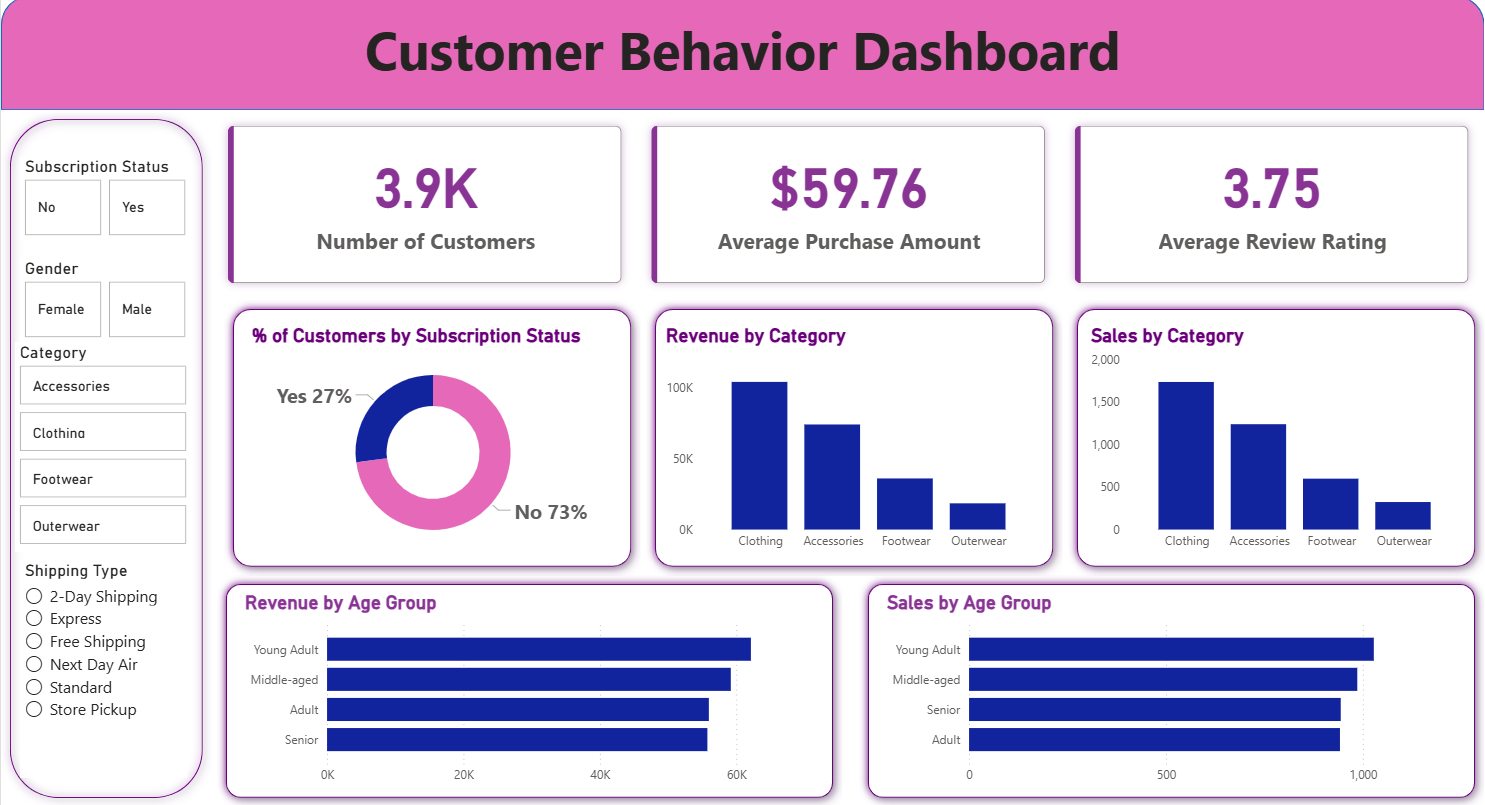

Layout of this report page (visuals, bound fields, positions):
{"tool":"powerbi","page":{"name":"Page 1","canvas":[1500,820],"ordinal":0},"visuals":[{"type":"cardVisual","fields":{"Data":["public customer.Number of Customers","public customer.Average Purchase Amount","public customer.Average Review Rating"]},"box":[212.9,115.3,1286.5,191.6],"z":2000},{"type":"shape","box":[218.3,585.6,631.7,234.2],"z":2500,"group":"g1"},{"type":"shape","box":[0,0,1499.4,115.3],"z":3000},{"type":"textbox","box":[0,12.4,1499.4,102.9],"z":4000},{"type":"shape","box":[225.4,307,420.5,278.6],"z":5000},{"type":"donutChart","title":"% of Customers by Subscription Status","fields":{"Category":["public customer.subscription_status"],"Y":["CountNonNull(public customer.customer_id)"]},"box":[248.4,331.8,376.2,237.8],"z":6000},{"type":"shape","box":[1078.9,307,420.5,278.6],"z":7000},{"type":"shape","box":[652.1,307,420.5,278.6],"z":8000},{"type":"clusteredColumnChart","title":"Revenue by Category","fields":{"Y":["Sum(public customer.purchase_amount)"],"Category":["public customer.category"]},"box":[667.2,331.8,385.1,237.8],"z":9000},{"type":"clusteredColumnChart","title":"Sales by Category","fields":{"Y":["CountNonNull(public customer.customer_id)"],"Category":["public customer.category"]},"box":[1096.6,331.8,385.1,237.8],"z":10000},{"type":"shape","box":[0,115.3,212.9,704.5],"z":11000},{"type":"advancedSlicerVisual","fields":{"Values":["public customer.subscription_status"]},"box":[19.5,161.5,173.9,85.2],"z":12000},{"type":"advancedSlicerVisual","fields":{"Values":["public customer.gender"]},"box":[19.5,264.4,173.9,85.2],"z":13000},{"type":"advancedSlicerVisual","fields":{"Values":["public customer.category"]},"box":[14.2,349.7,178.9,212.3],"z":14000},{"type":"listSlicer","fields":{"Values":["public customer.shipping_type"]},"box":[19.5,569.6,168.6,220],"z":15000},{"type":"shape","box":[867.7,585.6,631.7,234.2],"z":16000},{"type":"clusteredBarChart","title":"Sales by Age Group","fields":{"Y":["CountNonNull(public customer.customer_id)"],"Category":["public customer.age_group"]},"box":[890.8,601.5,585.6,204.1],"z":17000},{"type":"clusteredBarChart","title":"Revenue by Age Group","fields":{"Y":["Sum(public customer.purchase_amount)"],"Category":["public customer.age_group"]},"box":[241.4,601.6,585.6,204.1],"z":17500,"group":"g1"},{"type":"group","id":"g1","title":"Group 1","box":[218.3,585.6,631.7,234.2],"z":17501}]}

Visuals, with their boxes in screenshot pixels (x1, y1, x2, y2), scaled from the page's 1500x820 canvas onto the 1485x805 screenshot:
cardVisual - public customer.Number of Customers x public customer.Average Purchase Amount: rect(211, 113, 1484, 301)
shape: rect(216, 575, 842, 804)
shape: rect(0, 0, 1484, 113)
textbox: rect(0, 12, 1484, 113)
shape: rect(223, 301, 639, 575)
"% of Customers by Subscription Status" donutChart: rect(246, 326, 618, 559)
shape: rect(1068, 301, 1484, 575)
shape: rect(646, 301, 1062, 575)
"Revenue by Category" clusteredColumnChart: rect(661, 326, 1042, 559)
"Sales by Category" clusteredColumnChart: rect(1086, 326, 1467, 559)
shape: rect(0, 113, 211, 804)
advancedSlicerVisual - public customer.subscription_status: rect(19, 159, 191, 242)
advancedSlicerVisual - public customer.gender: rect(19, 260, 191, 343)
advancedSlicerVisual - public customer.category: rect(14, 343, 191, 552)
listSlicer - public customer.shipping_type: rect(19, 559, 186, 775)
shape: rect(859, 575, 1484, 804)
"Sales by Age Group" clusteredBarChart: rect(882, 590, 1462, 791)
"Revenue by Age Group" clusteredBarChart: rect(239, 591, 819, 791)
"Group 1" group: rect(216, 575, 842, 804)
